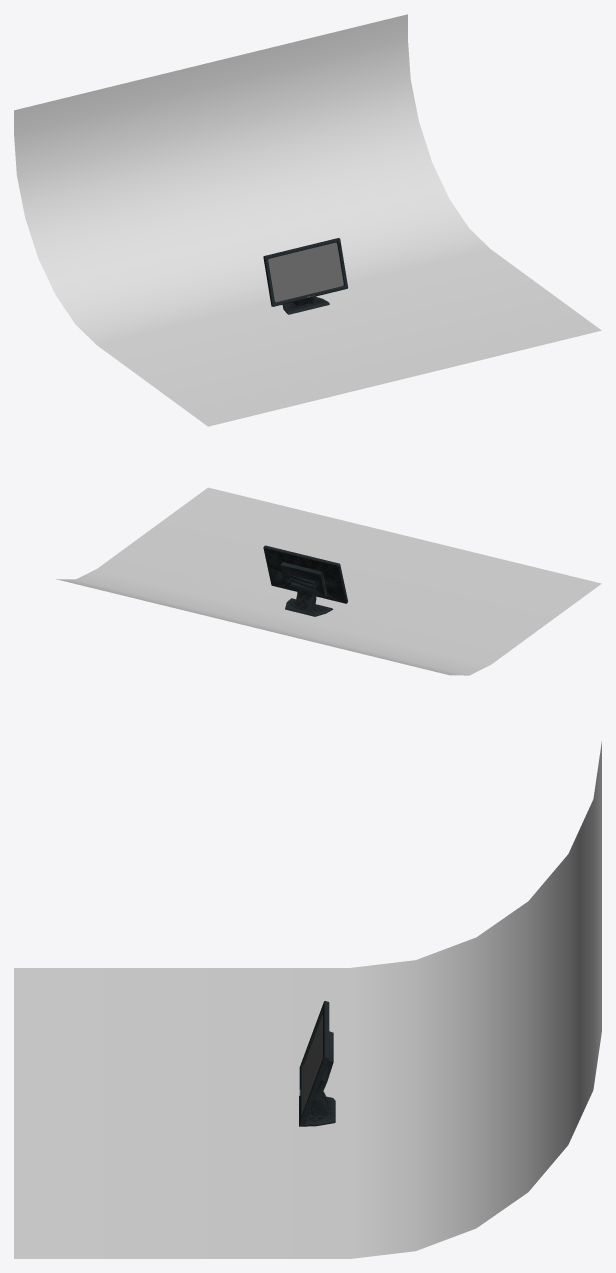
The model's file is uploads_files_5523804_Monitor+Exzyte+3D.glb.
3 renders of one model, top to bottom at view 1: azimuth 30°, elevation 25°; view 2: azimuth 150°, elevation 25°; view 3: azimuth 270°, elevation 25°, orthographic. The views are drawn at different scales.
Parts seen in each view (by area): view 1: Plane, Screen, Frame; view 2: Plane, Frame, Base; view 3: Plane, Frame, Screen, Base.
Part boxes in pixels (x1,y1,x2,y2): Plane: (14, 14, 601, 426); Screen: (268, 242, 343, 302); Frame: (263, 238, 348, 306); Plane: (56, 487, 601, 675); Frame: (263, 545, 347, 603); Base: (285, 589, 333, 616); Plane: (14, 741, 601, 1258); Frame: (299, 1001, 333, 1124); Screen: (303, 1014, 322, 1109); Base: (299, 1091, 335, 1126).
Bounding box in the file's own units: 20.15 × 8.52 × 17.21.
Materials: 4 (3 with a texture image).
